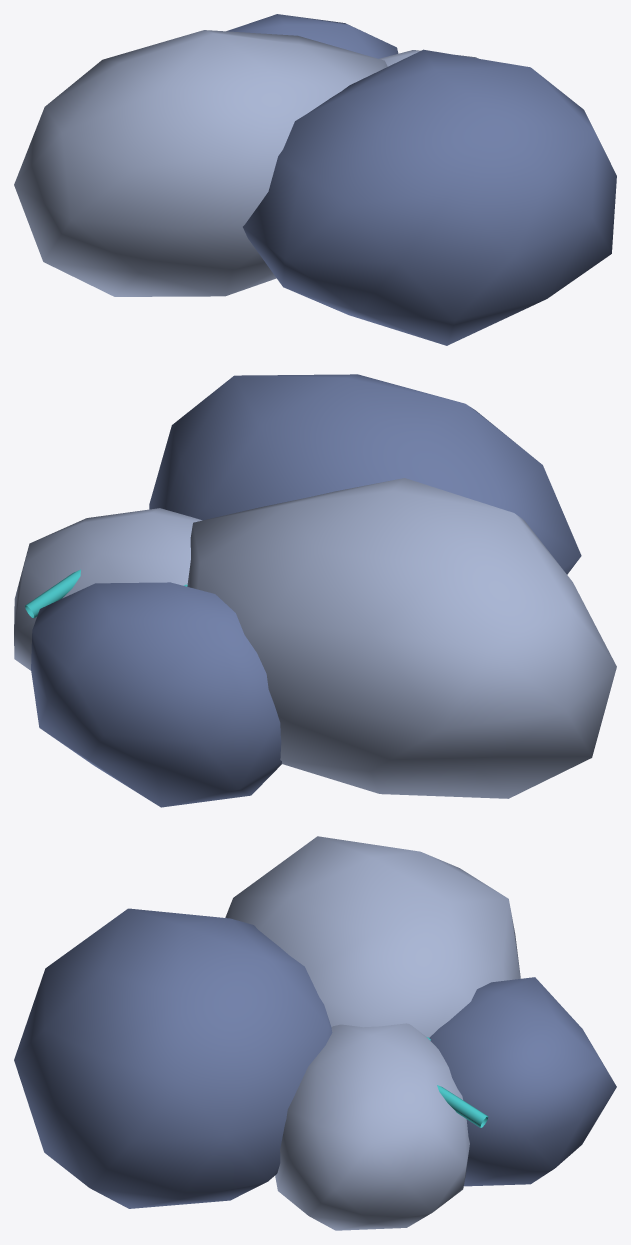
Rendered from r006_reef_rock_family_rock_03.glb.
3 renders of one model, top to bottom at view 1: azimuth 30°, elevation 25°; view 2: azimuth 150°, elevation 25°; view 3: azimuth 270°, elevation 25°, orthographic. The views are drawn at different scales.
Visible parts, largest first — view 1: r006_reef_rock_family_rock_03.001; view 2: r006_reef_rock_family_rock_03.001; view 3: r006_reef_rock_family_rock_03.001.
Boxes of the visible parts, <box> form: r006_reef_rock_family_rock_03.001: <box>14,14,616,345</box>; r006_reef_rock_family_rock_03.001: <box>14,374,616,807</box>; r006_reef_rock_family_rock_03.001: <box>14,836,616,1230</box>.
Size of the model in its own units: 2.98 by 1.42 by 2.94.
